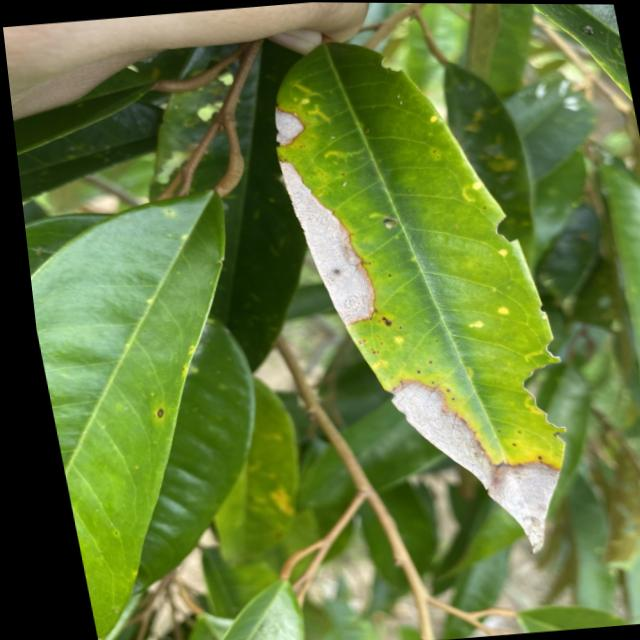Leaf Blight: (376, 348, 572, 573), (237, 138, 405, 339), (250, 96, 306, 152)
